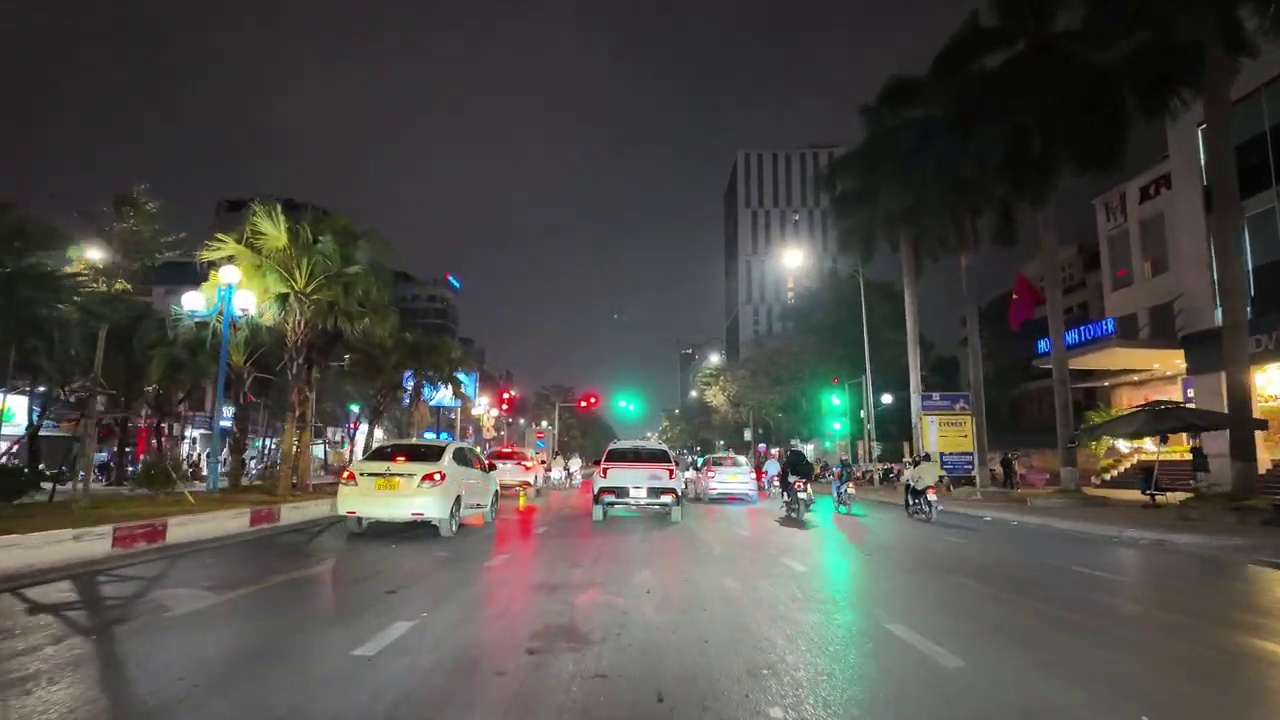acesa: (774, 241, 812, 279), (1249, 363, 1279, 410), (76, 244, 112, 271)
